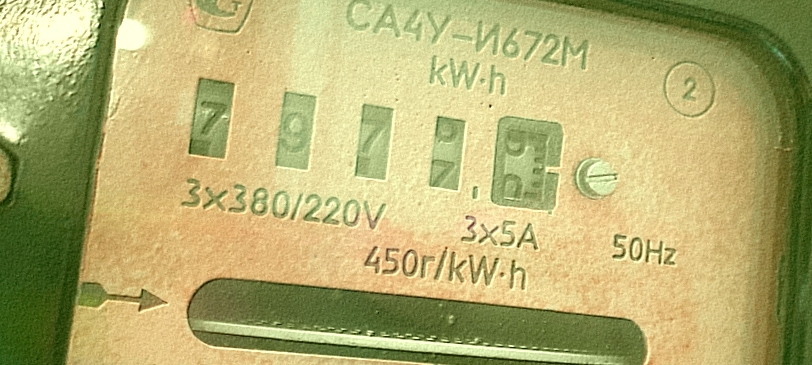0: (498, 170, 524, 201)
7: (192, 95, 230, 143), (426, 150, 460, 194), (357, 115, 389, 158)
9: (277, 108, 312, 158), (501, 126, 534, 161)
screen: (171, 64, 582, 228)
